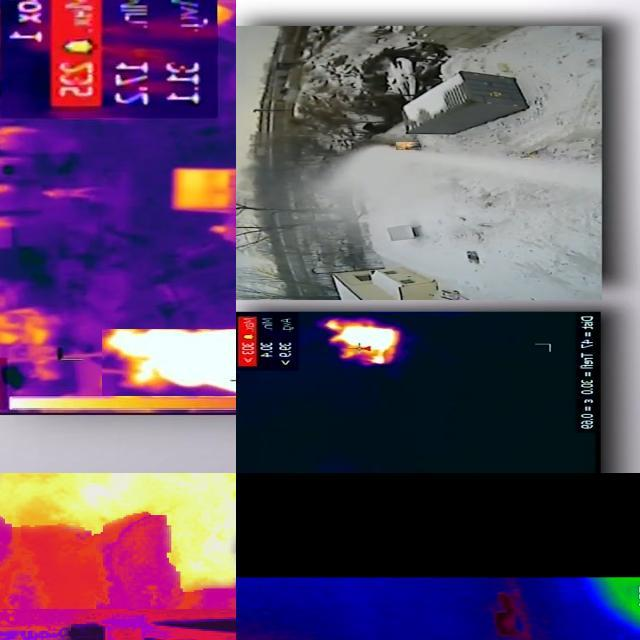fire: (1, 474, 237, 596), (102, 330, 237, 397), (322, 318, 402, 366)
